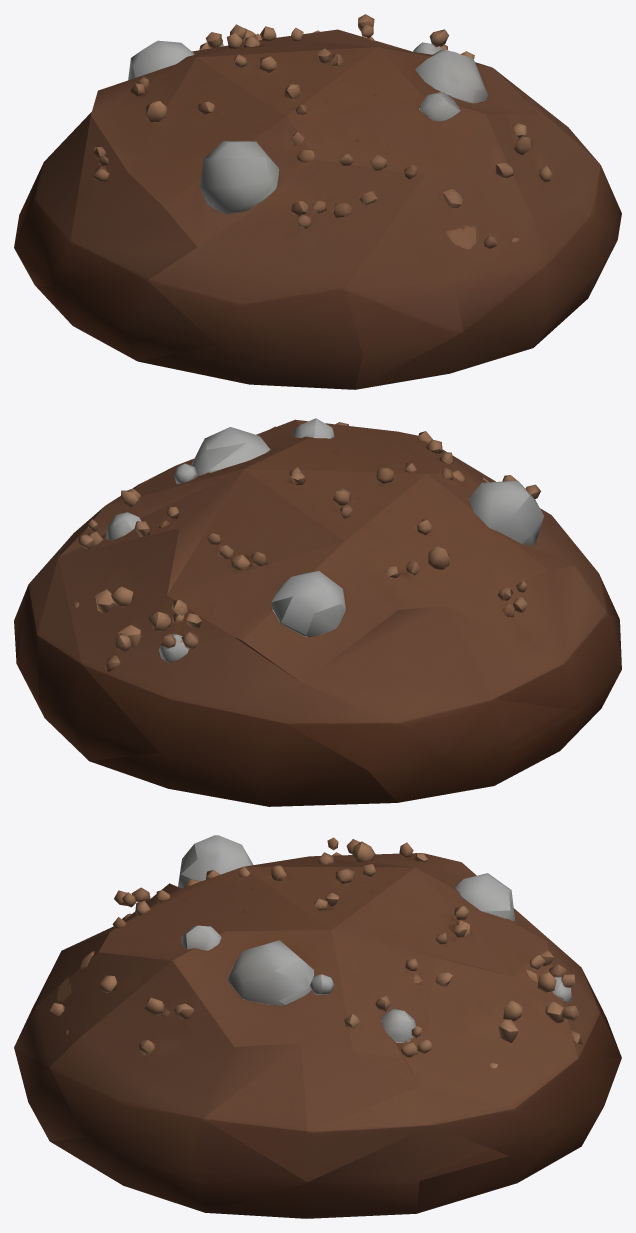
Rendered from soil_clump.glb.
The picture shows the model from 3 angles, top to bottom: view 1: azimuth 30°, elevation 25°; view 2: azimuth 150°, elevation 25°; view 3: azimuth 270°, elevation 25°; orthographic projection. The views are drawn at different scales.
Visible parts, largest first — view 1: mesh_node; view 2: mesh_node; view 3: mesh_node.
Part boxes in pixels (left/top/right/bottom): mesh_node: left=14, top=14, right=621, bottom=389; mesh_node: left=14, top=418, right=621, bottom=806; mesh_node: left=14, top=835, right=621, bottom=1218.
Size of the model in its own units: 1 by 0.3906 by 1.
Materials: 1 (1 with a texture image).
